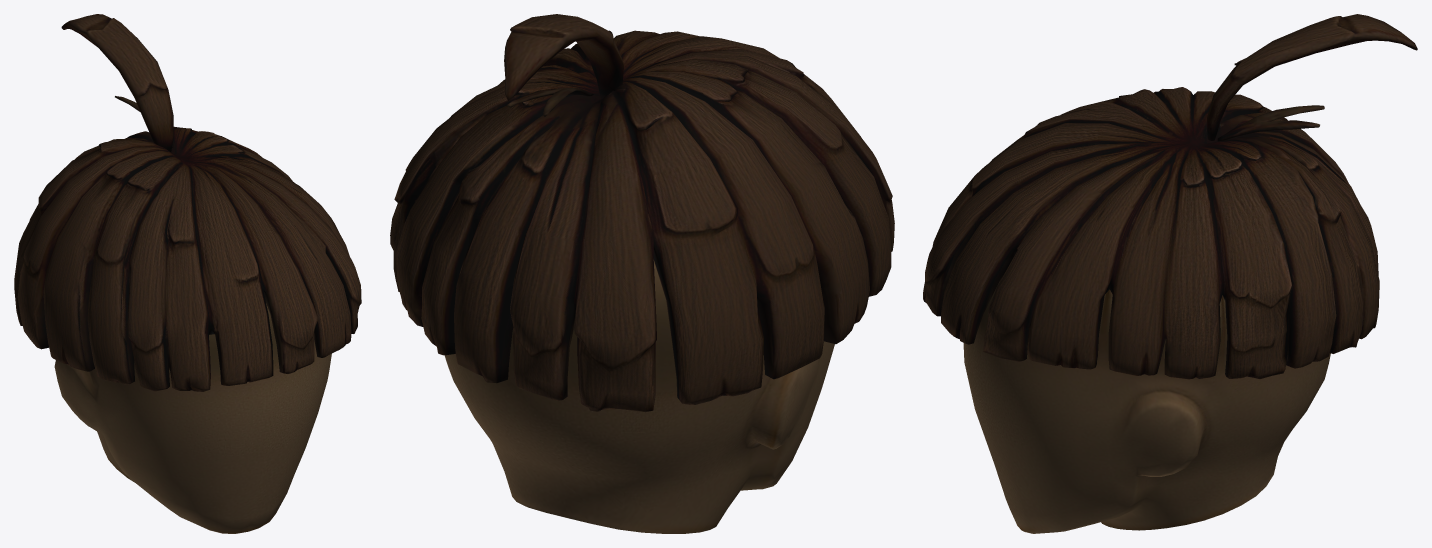
The model's file is NutsHair.fbx.
3 views of the same model, side by side, from view 1: azimuth 30°, elevation 25°; view 2: azimuth 150°, elevation 25°; view 3: azimuth 270°, elevation 25° (orthographic). The views are drawn at different scales.
Visible parts, largest first — view 1: tripo_part_0, tripo_part_1, tripo_part_2; view 2: tripo_part_0, tripo_part_1, tripo_part_2, tripo_part_3; view 3: tripo_part_0, tripo_part_1, tripo_part_2, tripo_part_3.
Boxes of the visible parts, x1=… form: tripo_part_0: x1=14, y1=126, x2=361, y2=391; tripo_part_1: x1=54, y1=303, x2=331, y2=533; tripo_part_2: x1=61, y1=14, x2=173, y2=152; tripo_part_0: x1=390, y1=30, x2=894, y2=412; tripo_part_1: x1=444, y1=260, x2=834, y2=533; tripo_part_2: x1=504, y1=14, x2=623, y2=100; tripo_part_3: x1=506, y1=87, x2=593, y2=116; tripo_part_0: x1=923, y1=87, x2=1379, y2=379; tripo_part_1: x1=963, y1=280, x2=1330, y2=533; tripo_part_2: x1=1207, y1=14, x2=1417, y2=140; tripo_part_3: x1=1217, y1=105, x2=1324, y2=141.
Size of the model in its own units: 0.7221 by 1 by 0.9139.
